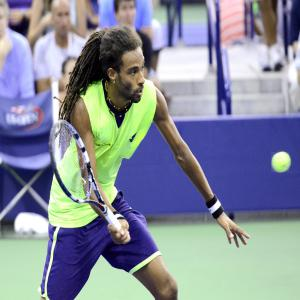TennisBall: (272, 153, 291, 174)
